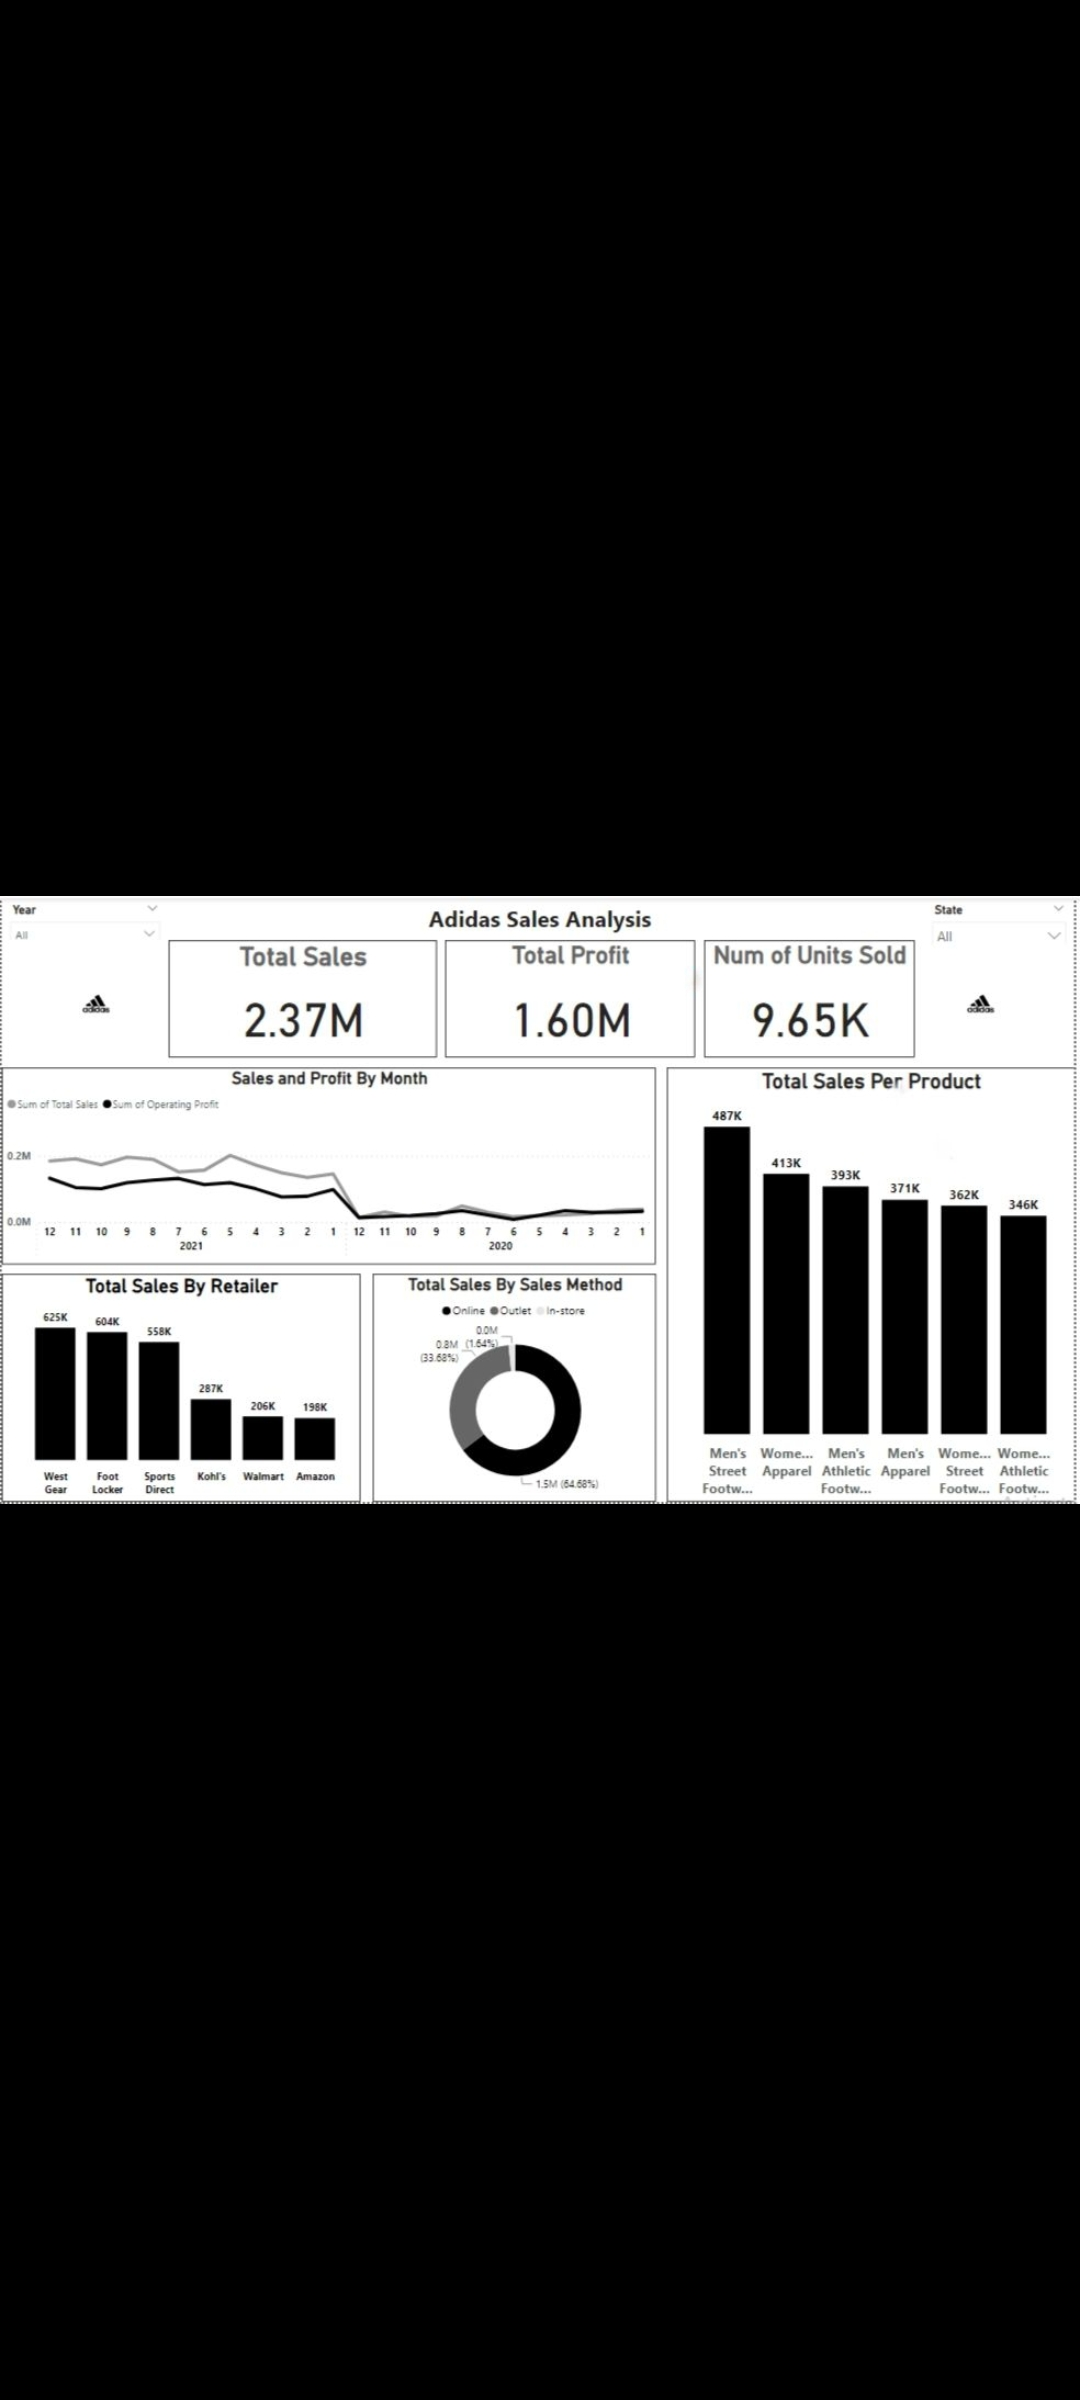

This screenshot's page, from the dashboard's own definition file:
{"tool":"powerbi","page":{"name":"Dashboard","canvas":[1280,720],"ordinal":0},"visuals":[{"type":"clusteredColumnChart","title":"Total Sales By Retailer","fields":{"Category":["Sheet1.Retailer"],"Y":["Sum(Sheet1.Units Sold)"]},"box":[0,447.8,427.7,272.2],"z":0},{"type":"lineChart","title":"Sales and Profit By Month","fields":{"Category":["Sheet1.Year","Sheet1.Month"],"Y":["Sum(Sheet1.Total Sales)","Sum(Sheet1.Operating Profit)"]},"box":[0,201.6,780.5,234.7],"z":1000},{"type":"donutChart","title":" Total Sales by Sales Method","fields":{"Category":["Sheet1.Sales Method"],"Y":["Sum(Sheet1.Total Sales)"]},"box":[455,447.8,338.4,272.2],"z":2000},{"type":"clusteredColumnChart","title":"Total Sales By Product","fields":{"Y":["Sum(Sheet1.Total Sales)"],"Category":["Sheet1.Product"]},"box":[793.4,201.6,486.7,518.4],"z":2001},{"type":"textbox","box":[133.9,0,1016.6,50.4],"z":2003},{"type":"image","box":[0,50.4,224.6,151.2],"z":2004},{"type":"image","box":[1055.5,50.4,224.6,151.2],"z":2005},{"type":"card","title":"Total Sales","fields":{"Values":["Sum(Sheet1.Total Sales)"]},"box":[198.7,50.4,319.7,139.7],"z":2006},{"type":"card","title":"Total Profit","fields":{"Values":["Sum(Sheet1.Operating Profit)"]},"box":[528.5,50.4,298.1,139.7],"z":2007},{"type":"card","title":"Num of Units Sold","fields":{"Values":["CountNonNull(Sheet1.Units Sold)"]},"box":[838.1,50.4,250.6,139.7],"z":2008},{"type":"slicer","fields":{"Values":["Sheet1.Year"]},"box":[0,0,198.7,50.4],"z":2009},{"type":"slicer","fields":{"Values":["Sheet1.State"]},"box":[1100.2,0,180,54.7],"z":2010}]}

Visuals, with their boxes on the page's 1280x720 design canvas (x1, y1, x2, y2). These are canvas units, not pixel positions in the 1080x2400 screenshot, which may show the page scaled, cropped or inside an application window:
"Total Sales By Retailer" clusteredColumnChart: 0, 448, 428, 720
"Sales and Profit By Month" lineChart: 0, 202, 780, 436
" Total Sales by Sales Method" donutChart: 455, 448, 793, 720
"Total Sales By Product" clusteredColumnChart: 793, 202, 1280, 720
textbox: 134, 0, 1150, 50
image: 0, 50, 225, 202
image: 1056, 50, 1280, 202
"Total Sales" card: 199, 50, 518, 190
"Total Profit" card: 528, 50, 827, 190
"Num of Units Sold" card: 838, 50, 1089, 190
slicer - Sheet1.Year: 0, 0, 199, 50
slicer - Sheet1.State: 1100, 0, 1280, 55
